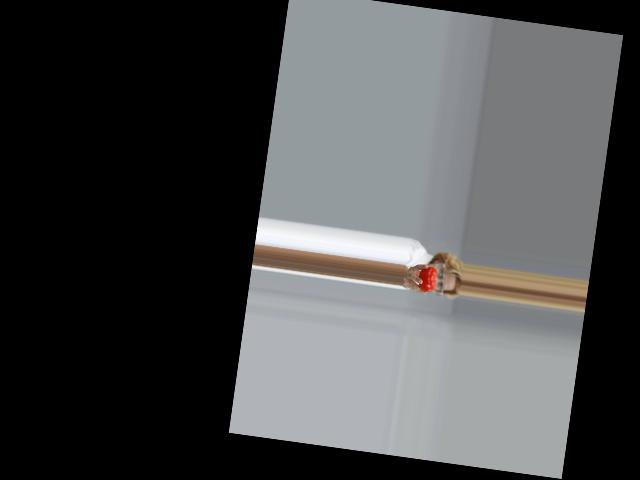tomato: (416, 264, 437, 292)
